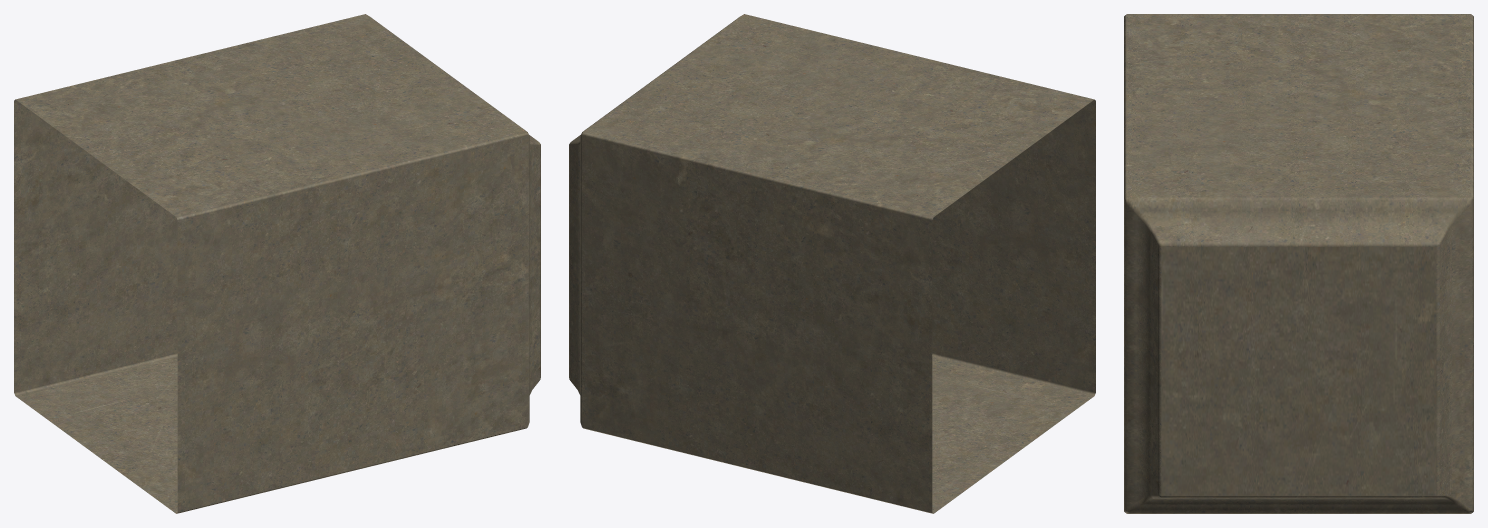
File: cP_Fence04_Post.dae
3 views of the same model, side by side, from view 1: azimuth 30°, elevation 25°; view 2: azimuth 150°, elevation 25°; view 3: azimuth 270°, elevation 25° (orthographic). The views are drawn at different scales.
Parts seen in each view (by area): view 1: cP_Fence04_Post.001; view 2: cP_Fence04_Post.001; view 3: cP_Fence04_Post.001.
Boxes of the visible parts, x1,y1,x2,y2 form: cP_Fence04_Post.001: (14, 14, 540, 513); cP_Fence04_Post.001: (569, 14, 1095, 513); cP_Fence04_Post.001: (1124, 14, 1473, 513).
Size of the model in its own units: 1.34 by 1 by 1.
